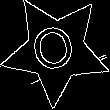O_S: (30, 20, 82, 80)
